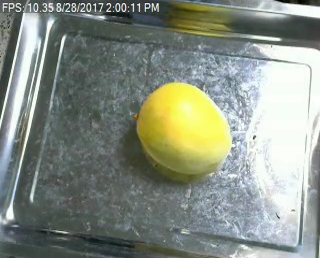Mango: (125, 77, 236, 177)
